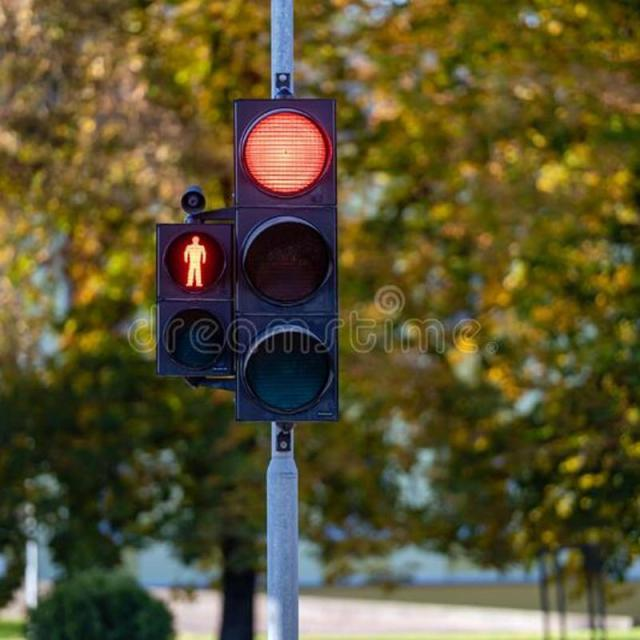red_light: (162, 227, 228, 295)
